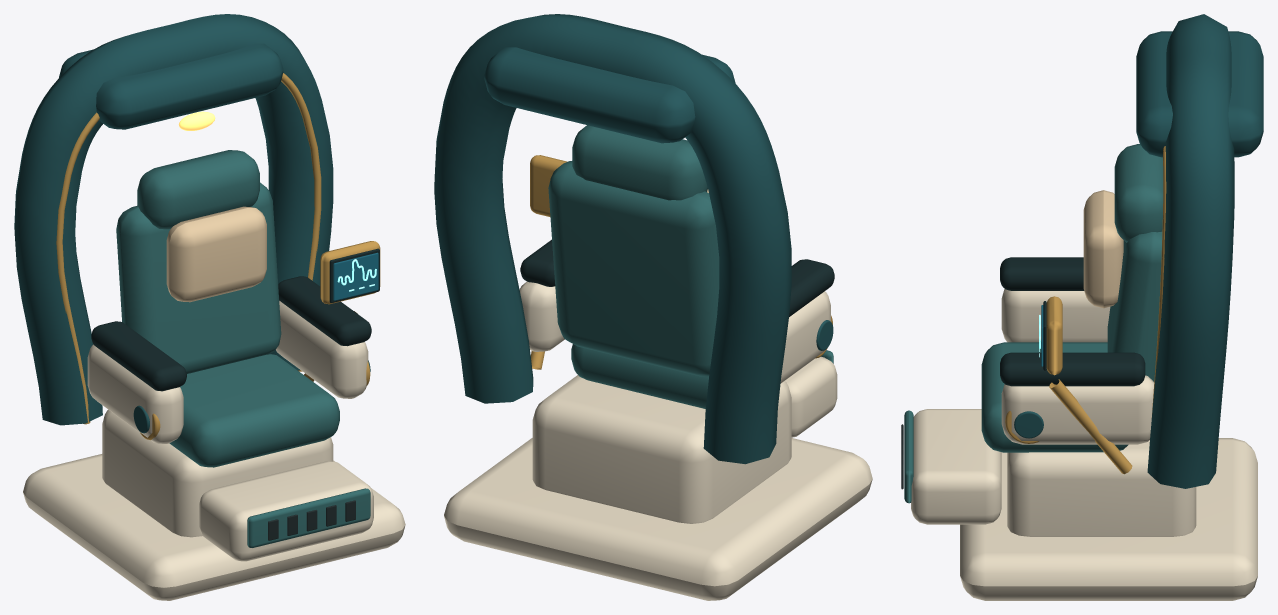
The model's file is recovery.glb.
3 renders of one model, left to right at view 1: azimuth 30°, elevation 25°; view 2: azimuth 150°, elevation 25°; view 3: azimuth 270°, elevation 25°, orthographic. The views are drawn at different scales.
Parts seen in each view (by area): view 1: teal.005, ivory.005, cushion.005, leather.005, dark.005, brass.005, display.005, rubber.005, lamp.005; view 2: teal.005, ivory.005, cushion.005, dark.005, brass.005; view 3: ivory.005, teal.005, cushion.005, dark.005, leather.005, brass.005.
Part boxes in pixels (bbox=[...]): teal.005: bbox=[14, 14, 370, 433]; ivory.005: bbox=[23, 301, 405, 600]; cushion.005: bbox=[116, 150, 370, 547]; leather.005: bbox=[166, 206, 266, 302]; dark.005: bbox=[91, 248, 379, 391]; brass.005: bbox=[56, 73, 380, 440]; display.005: bbox=[333, 252, 378, 300]; rubber.005: bbox=[268, 500, 355, 540]; lamp.005: bbox=[178, 111, 215, 130]; teal.005: bbox=[434, 14, 833, 464]; ivory.005: bbox=[444, 281, 872, 600]; cushion.005: bbox=[548, 125, 833, 408]; dark.005: bbox=[520, 239, 834, 316]; brass.005: bbox=[530, 155, 832, 369]; ivory.005: bbox=[911, 289, 1257, 600]; teal.005: bbox=[1014, 14, 1263, 488]; cushion.005: bbox=[904, 144, 1163, 503]; dark.005: bbox=[1000, 257, 1145, 386]; leather.005: bbox=[1083, 190, 1123, 308]; brass.005: bbox=[1005, 146, 1166, 474].
Size of the model in its own units: 1.05 by 1.51 by 0.996.
